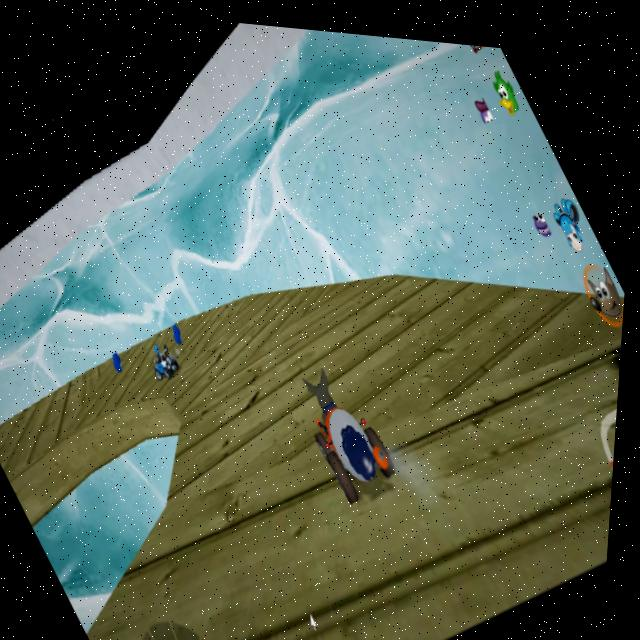enemy_kart: (146, 333, 192, 387)
nitro: (105, 341, 137, 376), (170, 313, 191, 339)
off_track: (114, 44, 479, 335), (25, 429, 196, 581)
player_kart: (282, 347, 426, 523)
track: (329, 269, 585, 564), (162, 380, 384, 631), (166, 276, 357, 429), (0, 362, 122, 481)
